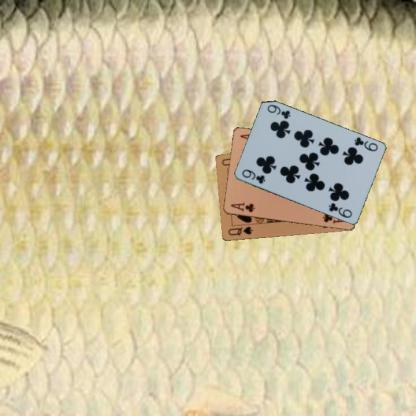9c: (351, 134, 379, 152), (239, 167, 266, 185)
Ac: (228, 200, 256, 214)
Qs: (225, 224, 254, 237)
